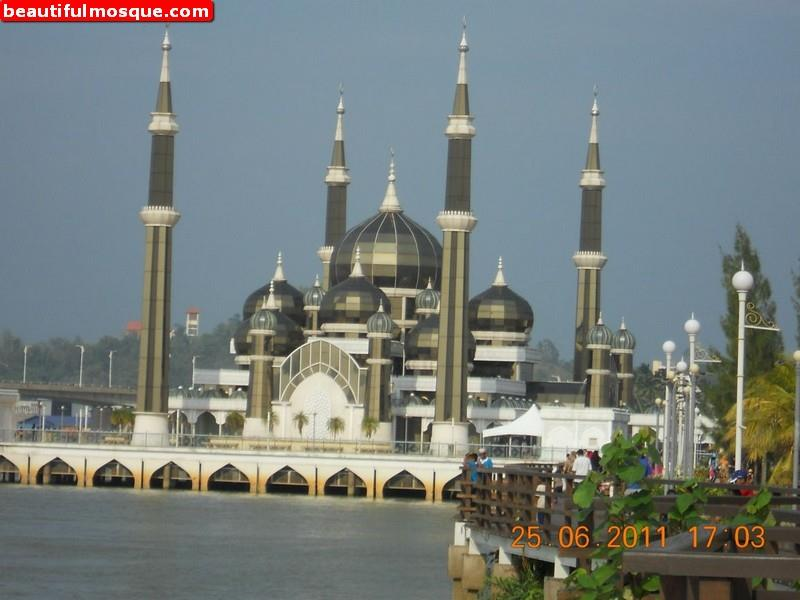Mosque: (61, 27, 678, 485)
